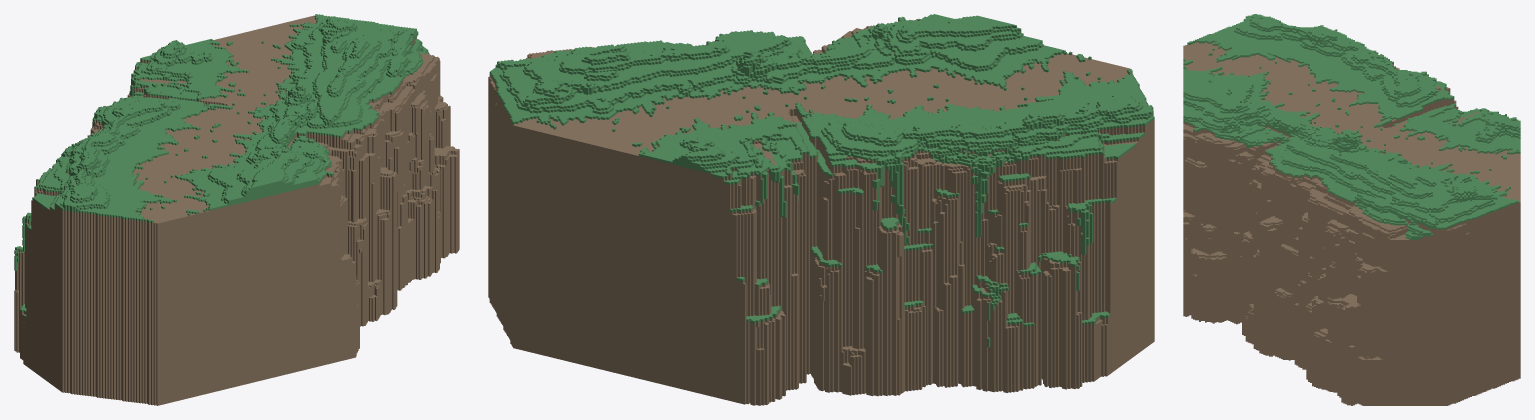
Rendered from Cubeland-16.obj.
3 views of the same model, side by side, from view 1: azimuth 30°, elevation 25°; view 2: azimuth 150°, elevation 25°; view 3: azimuth 270°, elevation 25° (orthographic). The views are drawn at different scales.
Size of the model in its own units: 25.6 by 11.1 by 17.3.
1 material, 1 textured.
